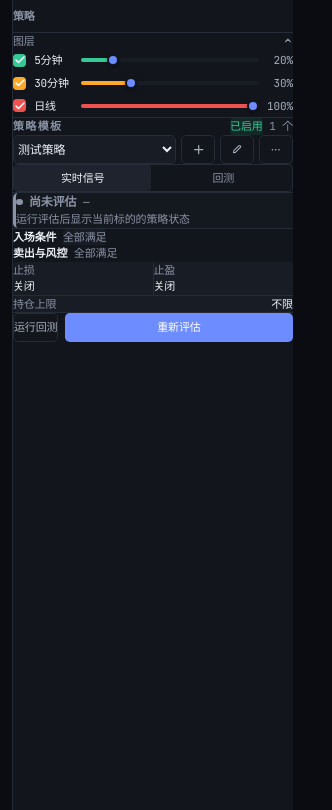
Test: SignalPanel 卖出与风控 / 交易明细 › 没有持仓时不出现「持有中」
Click the button "回测" at (223, 178), box top-left (155, 165), bottom-right (292, 191)
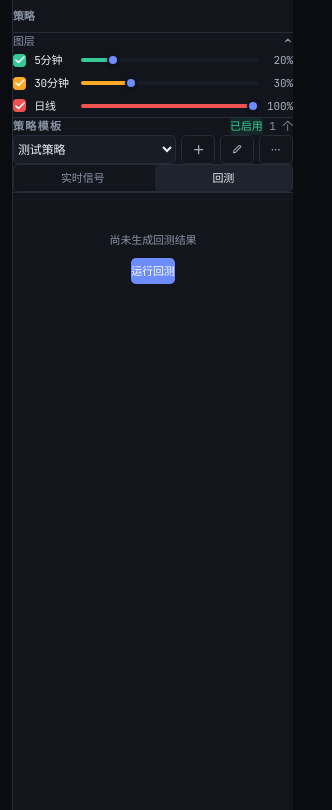
Click the button "运行回测" at (153, 271), box top-left (131, 258), bottom-right (175, 284)
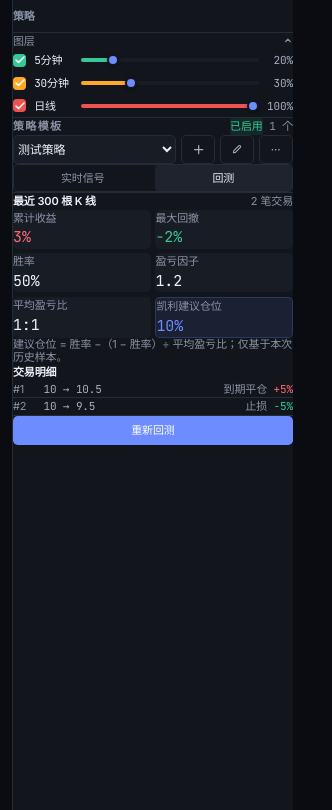
Now the text "2 笔交易" is shown, box top-left (251, 193), bottom-right (293, 210)
